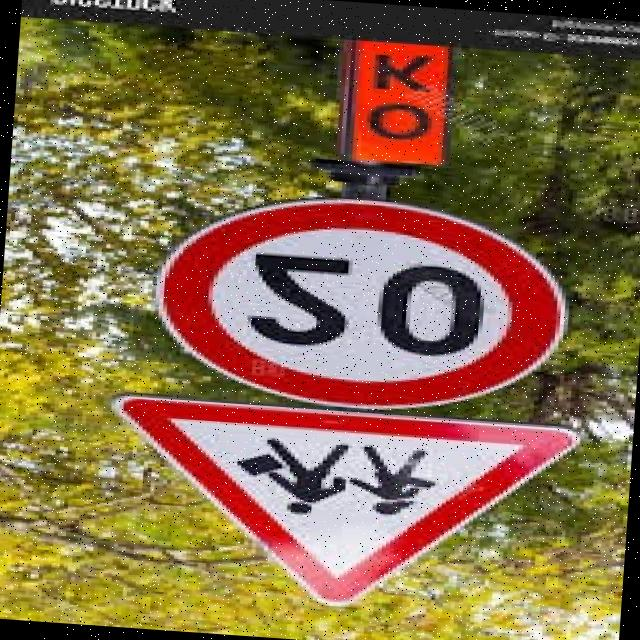speed_limit_20: (120, 181, 626, 420)
